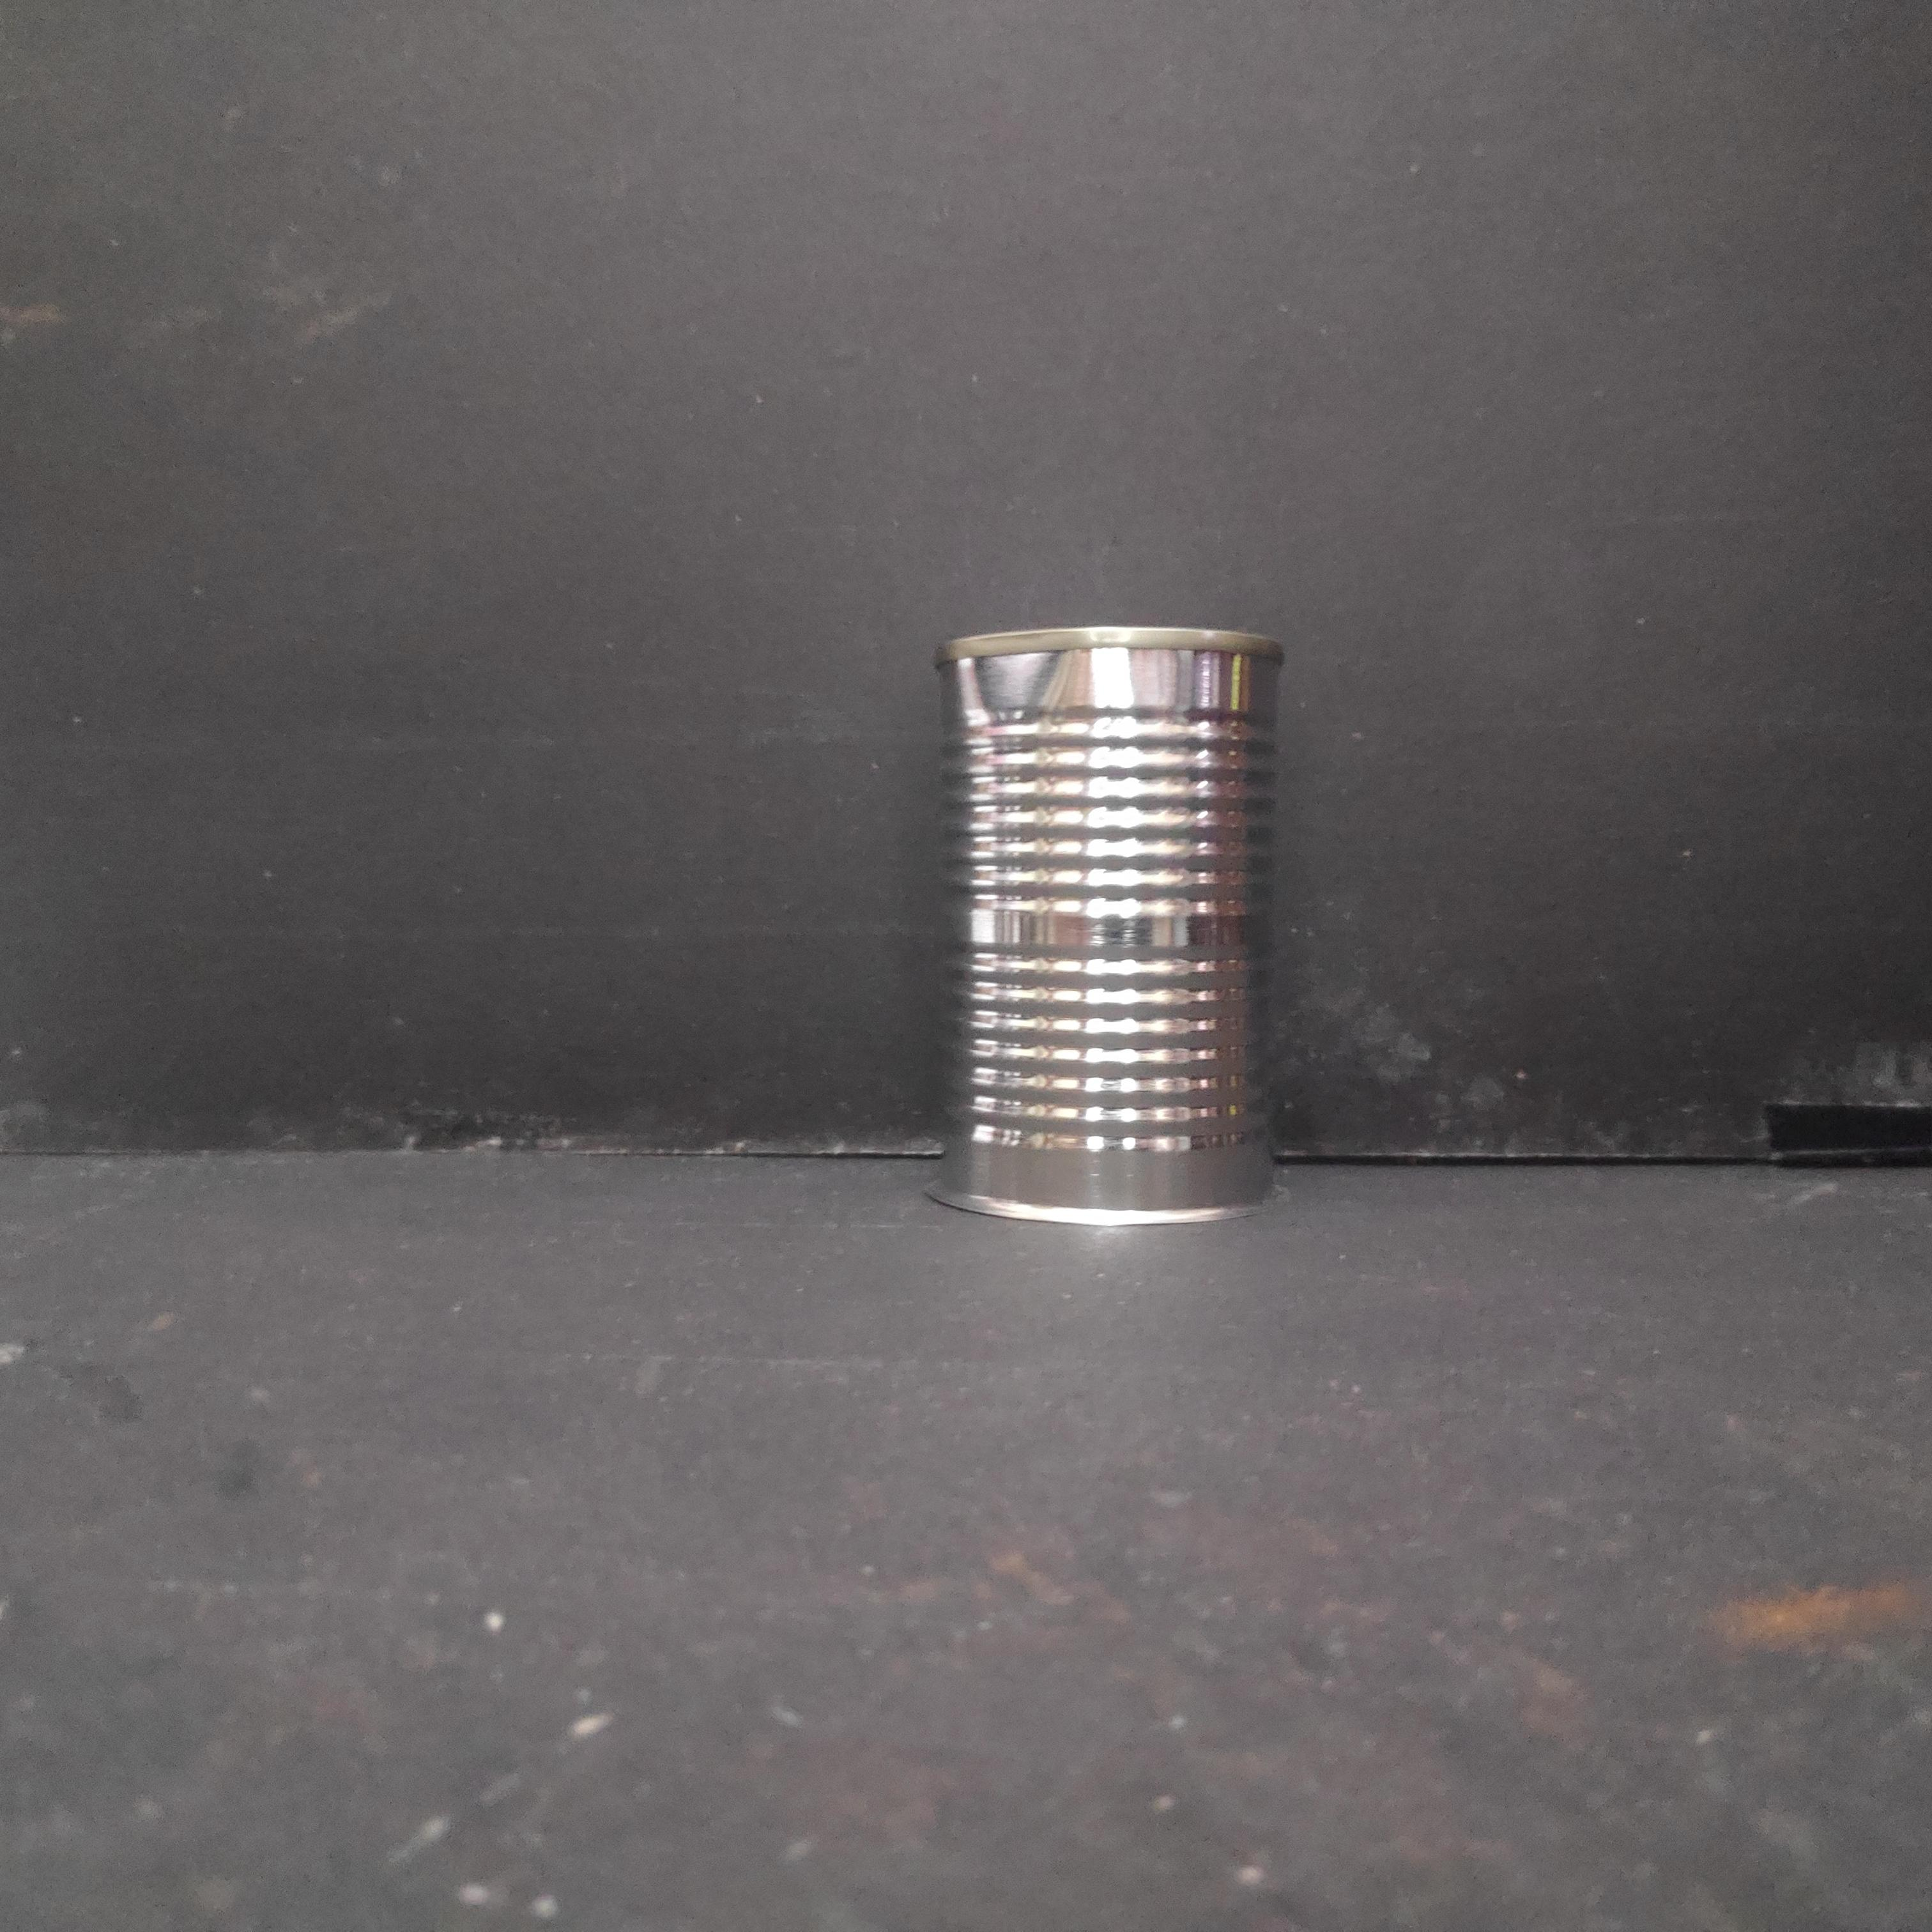Minor Defect: (924, 617, 1293, 1244)
